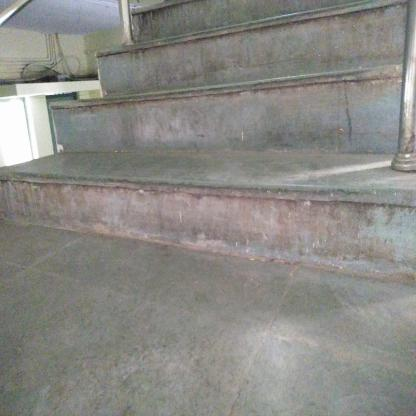stairs: (103, 46, 398, 288)
